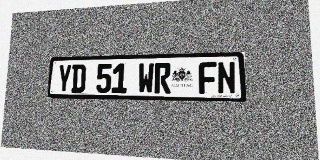1: (111, 63, 127, 93)
5: (96, 64, 112, 93)
D: (71, 64, 86, 93)
F: (199, 62, 217, 94)
N: (217, 61, 236, 94)
R: (154, 63, 171, 94)
W: (138, 63, 154, 94)
Y: (57, 64, 72, 93)
